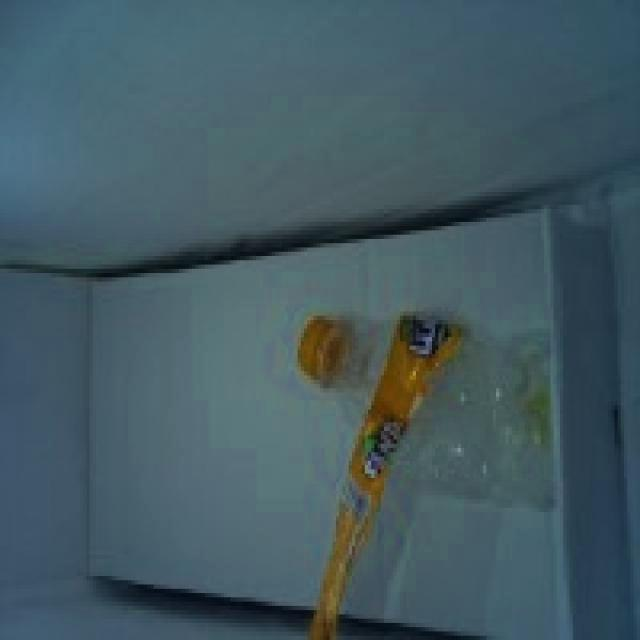bottle: (298, 314, 553, 511)
